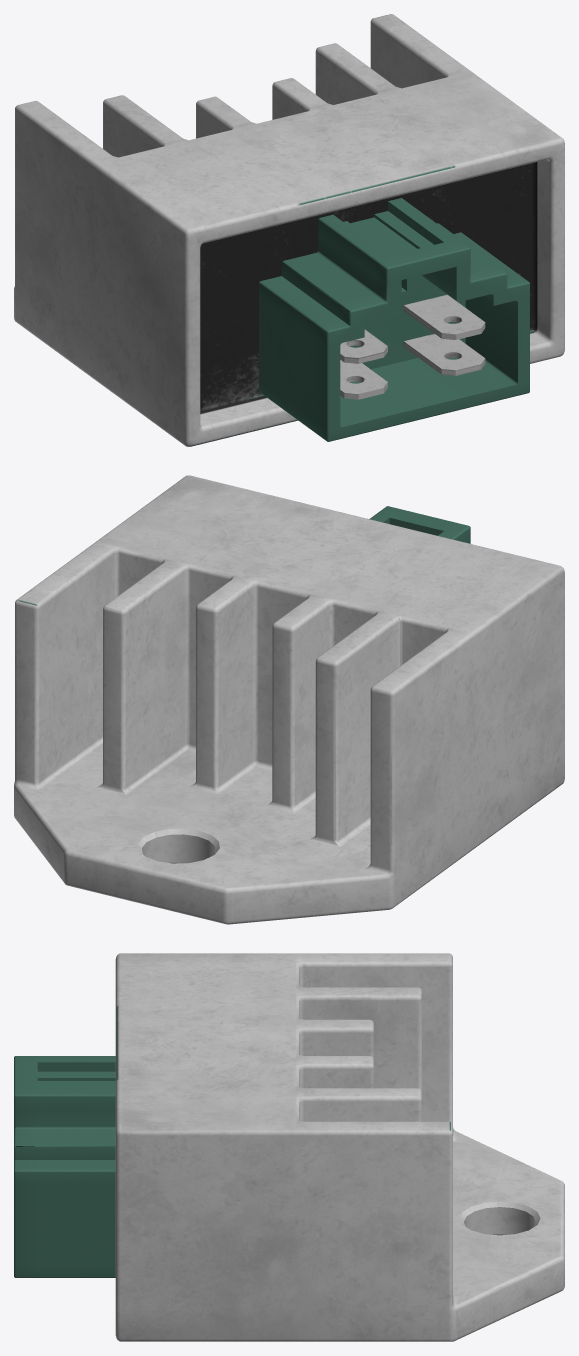
Rendered from kiprok.glb.
3 renders of one model, top to bottom at view 1: azimuth 30°, elevation 25°; view 2: azimuth 150°, elevation 25°; view 3: azimuth 270°, elevation 25°, orthographic. The views are drawn at different scales.
Visible parts, largest first — view 1: kiprok; view 2: kiprok; view 3: kiprok.
Part boxes in pixels (x1,y1,x2,y2): kiprok: (14, 14, 564, 446); kiprok: (14, 475, 564, 924); kiprok: (14, 953, 564, 1341).
Bounding box in the file's own units: 1.78 × 0.9783 × 2.31.
Materials: 1 (1 with a texture image).
